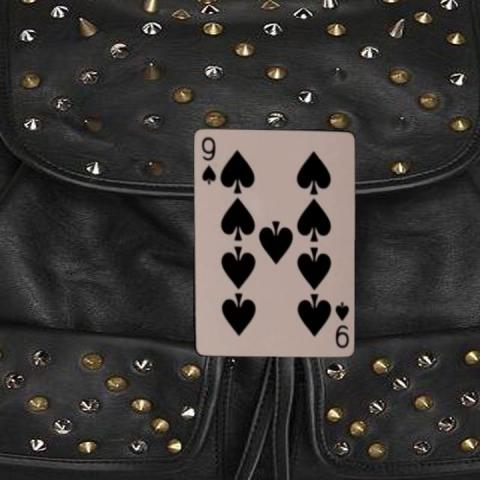9s: (198, 133, 217, 186), (332, 298, 350, 349)
